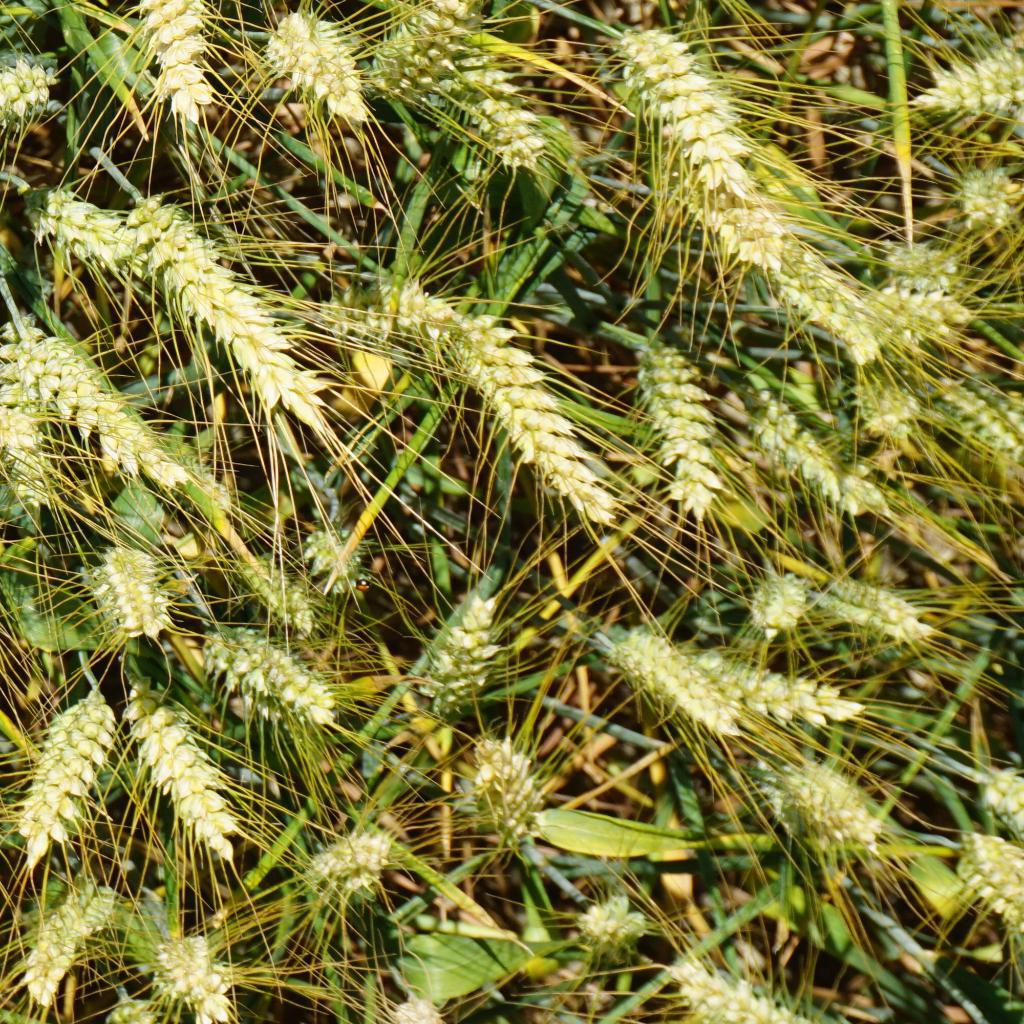0-0: (147, 210, 321, 415), (3, 303, 194, 484), (623, 3, 777, 216), (625, 316, 734, 527), (117, 685, 243, 862), (269, 5, 384, 160), (604, 625, 749, 747), (7, 856, 124, 1005), (361, 263, 491, 396), (754, 379, 873, 513), (130, 0, 239, 139), (86, 525, 192, 666), (207, 617, 337, 730), (766, 238, 884, 361), (444, 35, 551, 166), (29, 695, 122, 844), (808, 561, 947, 657), (414, 585, 517, 709), (34, 177, 152, 275), (458, 734, 555, 848), (136, 925, 241, 1024), (651, 955, 801, 1024), (367, 0, 465, 104), (764, 758, 888, 840), (915, 38, 1024, 121), (0, 340, 54, 493), (940, 373, 1024, 466), (956, 830, 1024, 927), (0, 51, 62, 154), (302, 820, 394, 888), (737, 553, 807, 638), (302, 519, 374, 594), (573, 885, 647, 957), (233, 553, 308, 622), (844, 376, 920, 443), (878, 274, 965, 332), (867, 225, 950, 285), (947, 162, 1015, 231), (337, 278, 396, 339), (368, 984, 451, 1024), (977, 759, 1024, 822), (0, 371, 25, 448)
